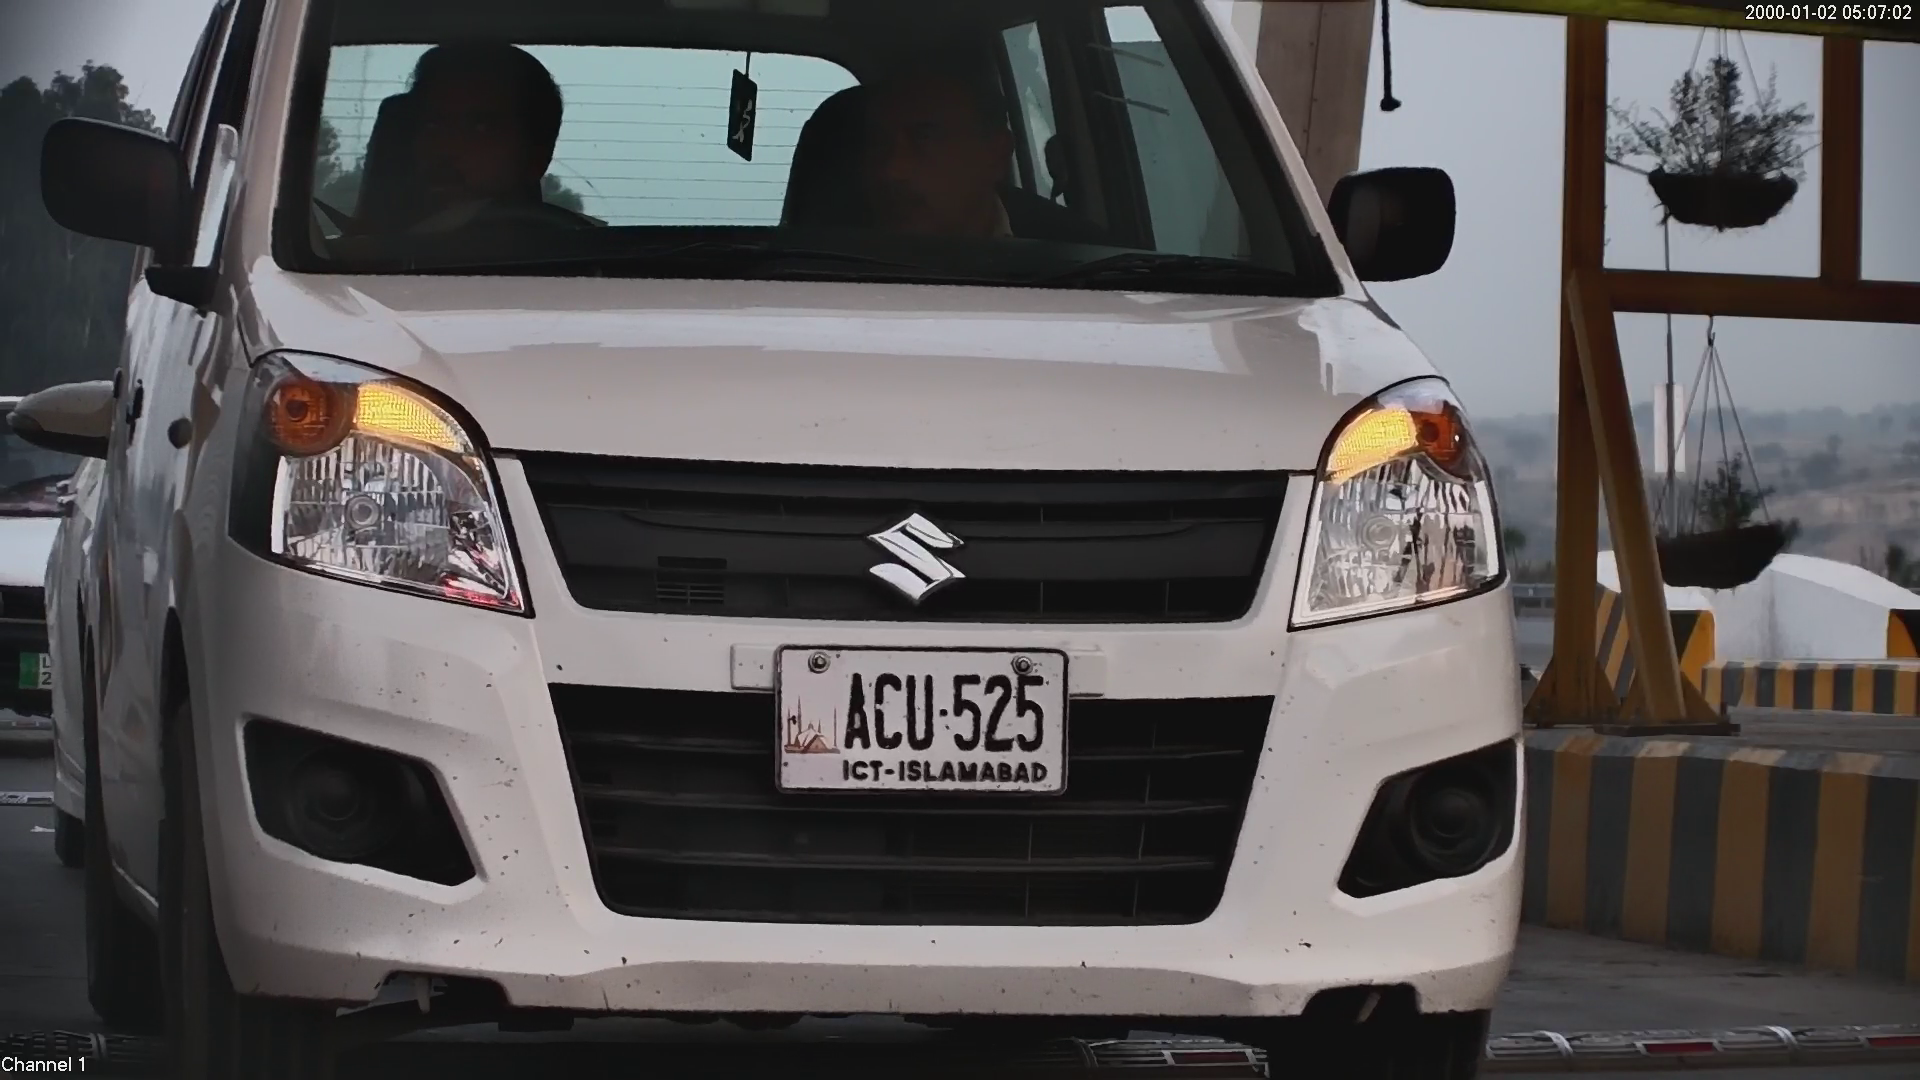Number_Plate: (763, 625, 1084, 807)
